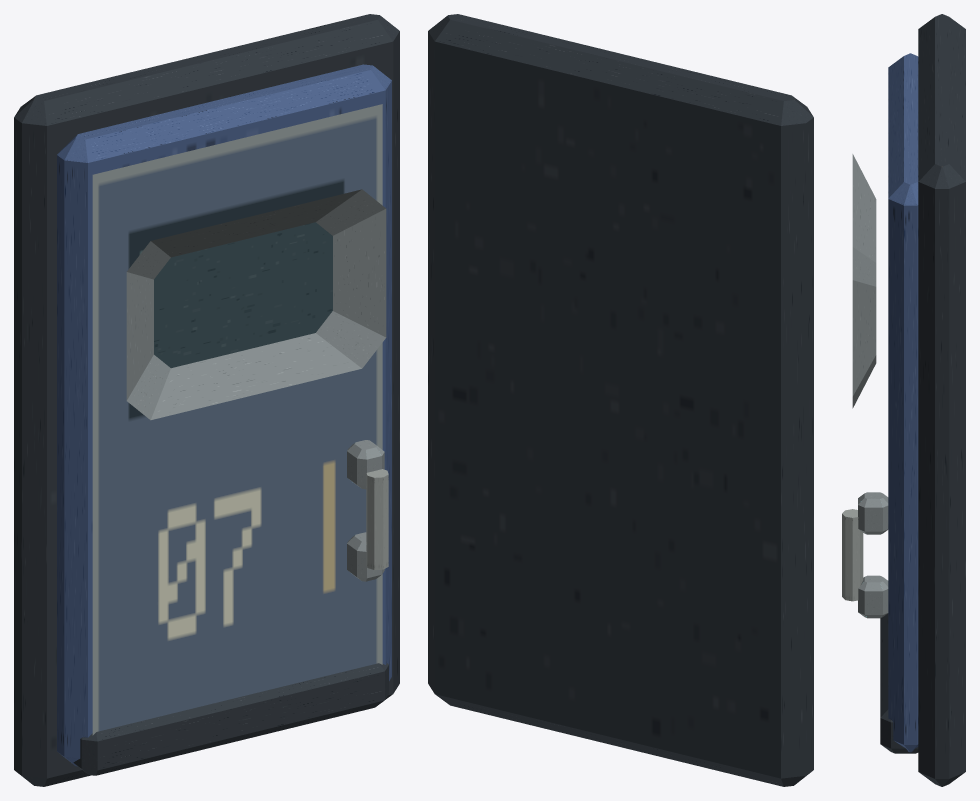
The model's file is ReceptionDoor.fbx.
The picture shows the model from 3 angles, left to right: view 1: azimuth 30°, elevation 25°; view 2: azimuth 150°, elevation 25°; view 3: azimuth 270°, elevation 25°; orthographic projection. The views are drawn at different scales.
Visible parts, largest first — view 1: ReceptionDoor; view 2: ReceptionDoor; view 3: ReceptionDoor.
Part boxes in pixels (x1,y1,x2,y2): ReceptionDoor: (14,14,399,786); ReceptionDoor: (428,14,813,786); ReceptionDoor: (842,14,965,786).
Size of the model in its own units: 150 by 260 by 47.
